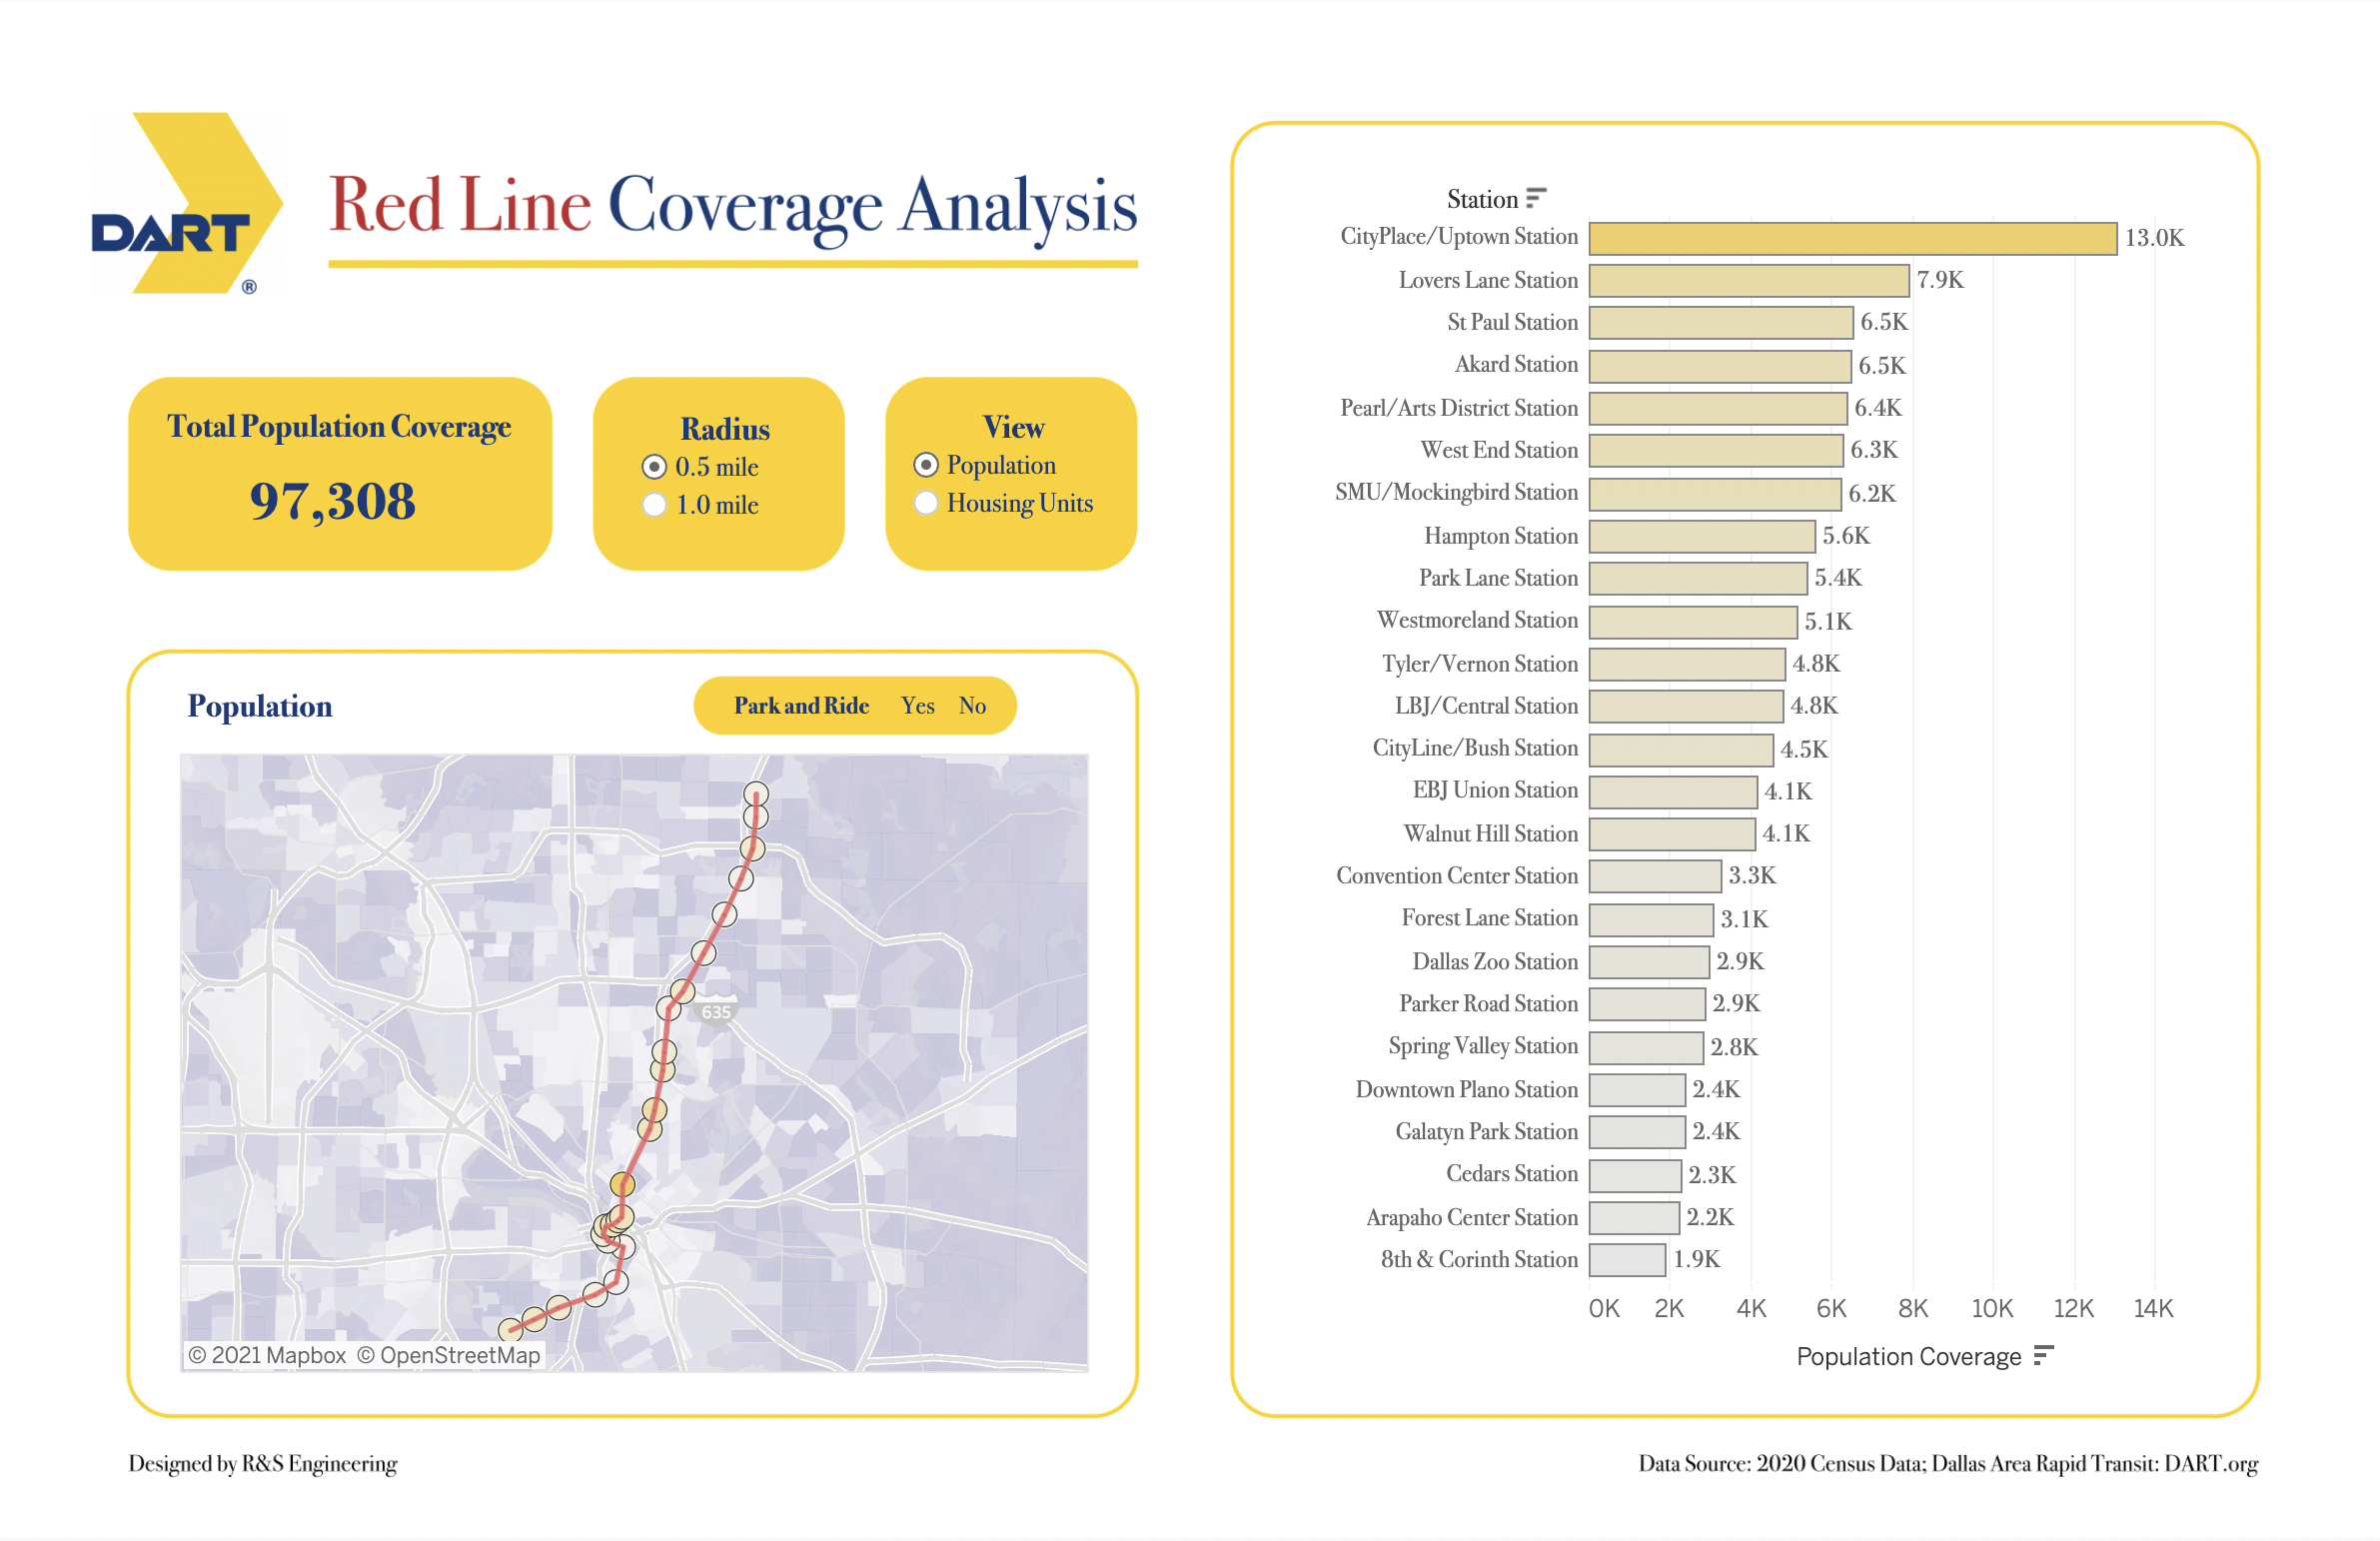

This screenshot's page, from the dashboard's own definition file:
{"tool":"tableau","page":{"name":"Dashboard 1","canvas":[1000,800],"ordinal":0},"visuals":[{"type":"worksheet","title":"Population","mark":"Automatic","rows":["Name (redLineCoverages.csv)"],"cols":["tot_pop"],"box":[476,131,500,652]},{"type":"worksheet","title":"Total Population Coverage","mark":"Automatic","box":[32,147,199,93]},{"type":"filter","title":"Maps","param":"[federated.1a5gt280p8lfip19uc8mg1v4hsvn].[none:radius:ok]","box":[265,160,160,81]},{"type":"worksheet","title":"Maps","mark":"Automatic","box":[48,267,386,451]}]}

Visuals, with their boxes on the page's 1000x800 design canvas (x1, y1, x2, y2). These are canvas units, not pixel positions in the 2380x1541 screenshot, which may show the page scaled, cropped or inside an application window:
"Population" worksheet: select_region(476, 131, 976, 783)
"Total Population Coverage" worksheet: select_region(32, 147, 231, 240)
"Maps" filter: select_region(265, 160, 425, 241)
"Maps" worksheet: select_region(48, 267, 434, 718)
